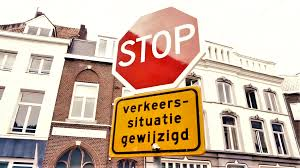stop: (111, 5, 203, 90)
